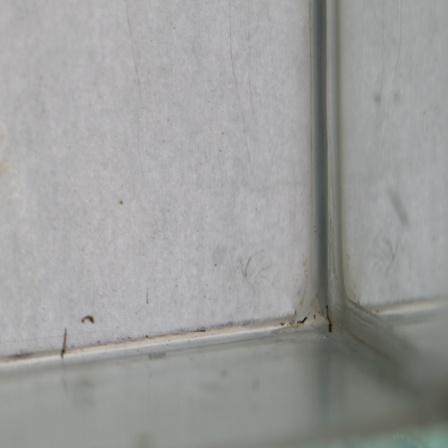Jentik-Nyamuk: (323, 299, 335, 334), (80, 313, 97, 327)
